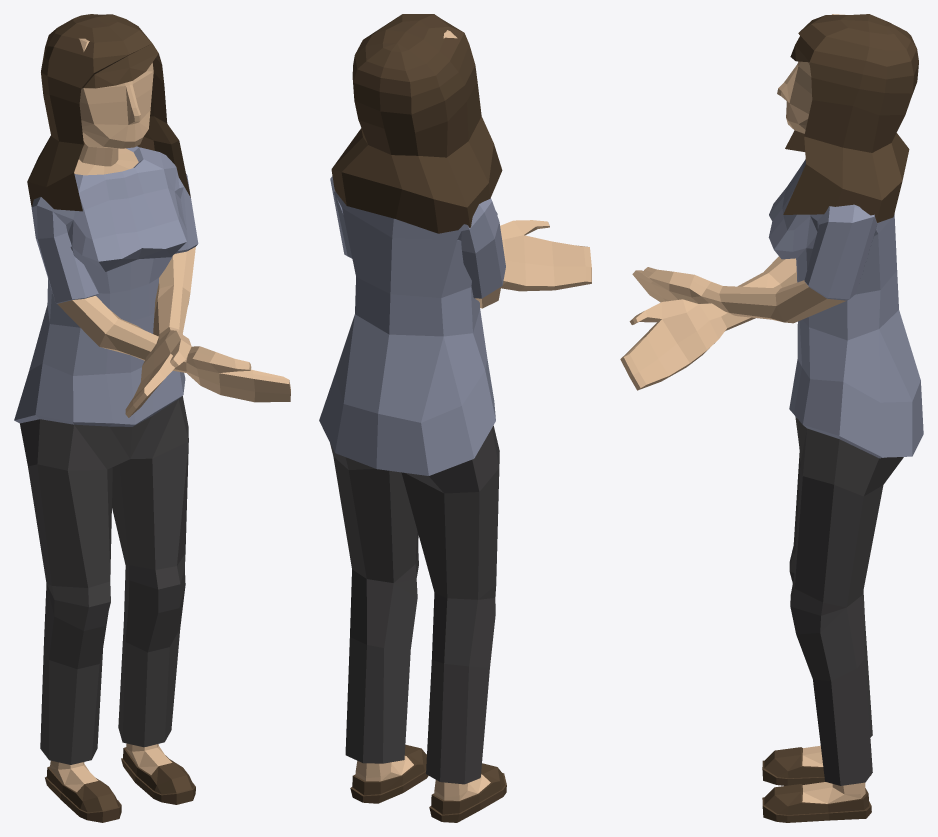
The model's file is Female_Crowd_HandsClasped.glb.
3 renders of one model, left to right at view 1: azimuth 30°, elevation 25°; view 2: azimuth 150°, elevation 25°; view 3: azimuth 270°, elevation 25°, orthographic. The views are drawn at different scales.
Visible parts, largest first — view 1: Female_Crowd_HandsClasped; view 2: Female_Crowd_HandsClasped; view 3: Female_Crowd_HandsClasped.
Part boxes in pixels (left/top/right/bottom): Female_Crowd_HandsClasped: left=14, top=14, right=290, bottom=822; Female_Crowd_HandsClasped: left=319, top=14, right=591, bottom=822; Female_Crowd_HandsClasped: left=620, top=14, right=923, bottom=822.
Size of the model in its own units: 0.3648 by 1.66 by 0.5901.
